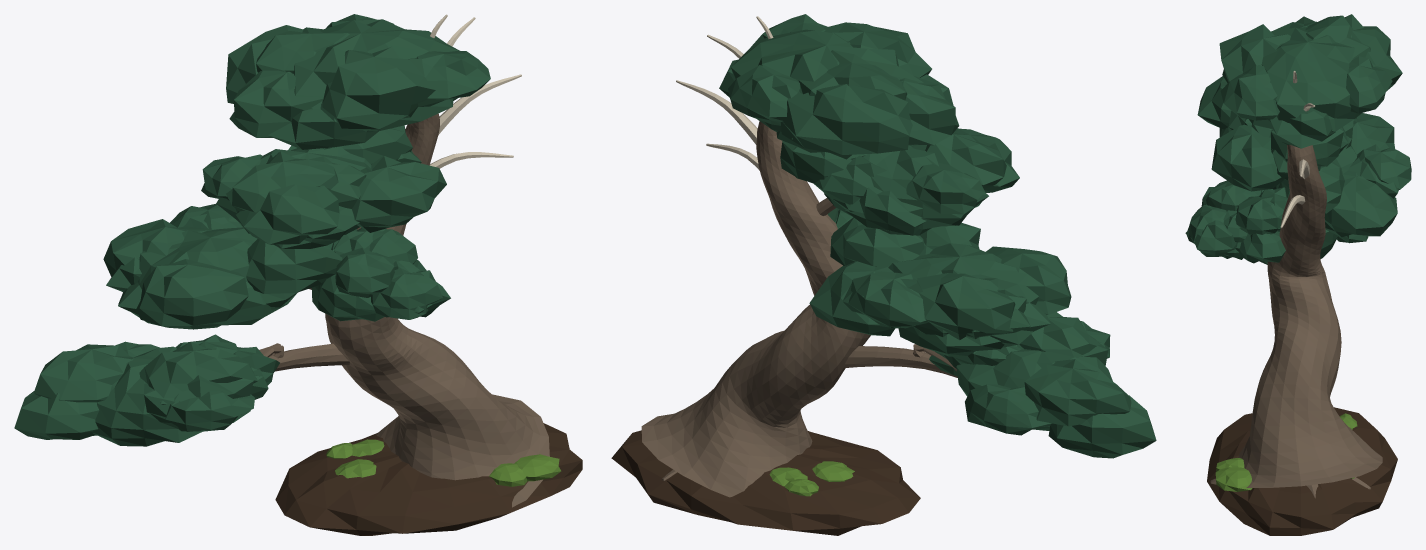
Rendered from bonsai.obj.
3 renders of one model, left to right at view 1: azimuth 30°, elevation 25°; view 2: azimuth 150°, elevation 25°; view 3: azimuth 270°, elevation 25°, orthographic. The views are drawn at different scales.
Visible parts, largest first — view 1: foliage, trunk, ground, moss, deadwood; view 2: foliage, trunk, ground, moss, deadwood; view 3: foliage, trunk, ground, moss, deadwood.
Part boxes in pixels (bbox=[...]): foliage: bbox=[14, 14, 490, 446]; trunk: bbox=[259, 113, 549, 507]; ground: bbox=[275, 423, 582, 535]; moss: bbox=[326, 439, 561, 486]; deadwood: bbox=[429, 14, 521, 168]; foliage: bbox=[719, 14, 1156, 458]; trunk: bbox=[641, 121, 957, 497]; ground: bbox=[611, 430, 920, 535]; moss: bbox=[769, 461, 854, 496]; deadwood: bbox=[676, 16, 773, 170]; foliage: bbox=[1185, 14, 1411, 264]; trunk: bbox=[1210, 144, 1382, 498]; ground: bbox=[1207, 407, 1397, 535]; moss: bbox=[1215, 413, 1357, 491]; deadwood: bbox=[1280, 71, 1314, 228].
Size of the model in its own units: 41.86 by 35.74 by 17.25.
